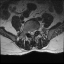CCS_normal: (31, 29, 33, 37)
LFS_normal: (35, 27, 37, 33)
LLS_normal: (33, 28, 35, 35)
RFS_normal: (27, 28, 29, 34)
RLS_normal: (29, 28, 31, 36)
